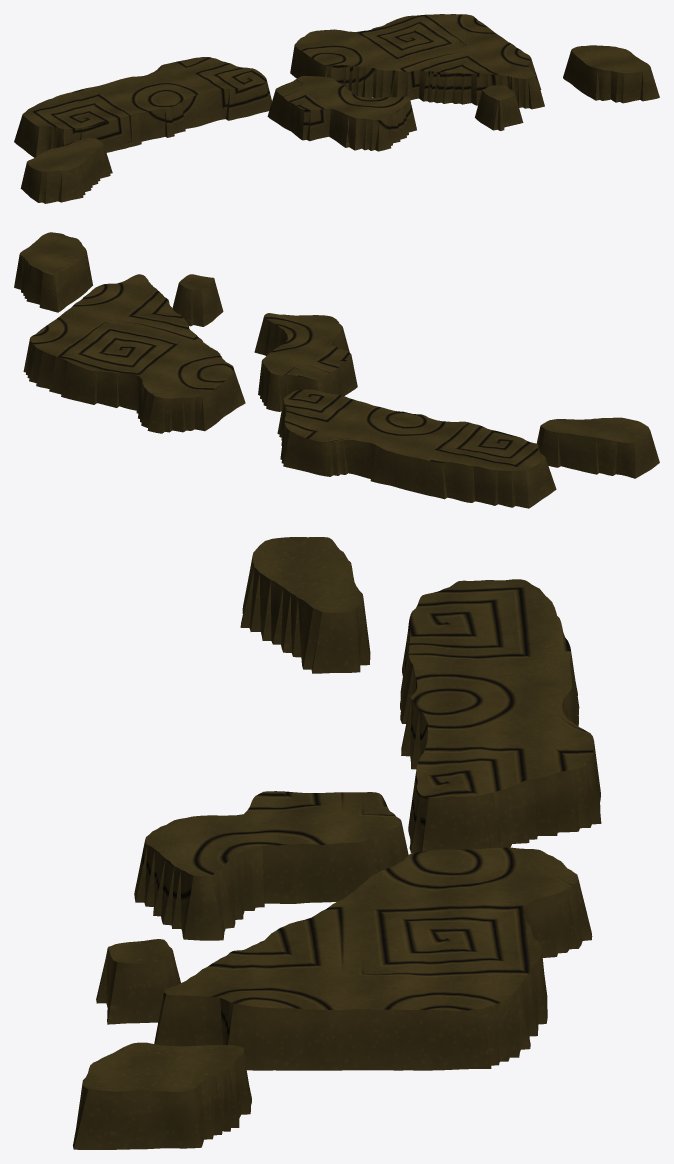
Rendered from CREHenge16.glb.
3 views of the same model, one above another, from view 1: azimuth 30°, elevation 25°; view 2: azimuth 150°, elevation 25°; view 3: azimuth 270°, elevation 25° (orthographic). The views are drawn at different scales.
Visible parts, largest first — view 1: CREHenge16_tops; view 2: CREHenge16_tops; view 3: CREHenge16_tops.
Part boxes in pixels (x1,y1,x2,y2): CREHenge16_tops: (14,14,659,203); CREHenge16_tops: (14,232,659,508); CREHenge16_tops: (73,537,601,1149).
Bounding box in the file's own units: 8.41 × 0.4311 × 3.35.
Materials: 2 (2 with a texture image).
